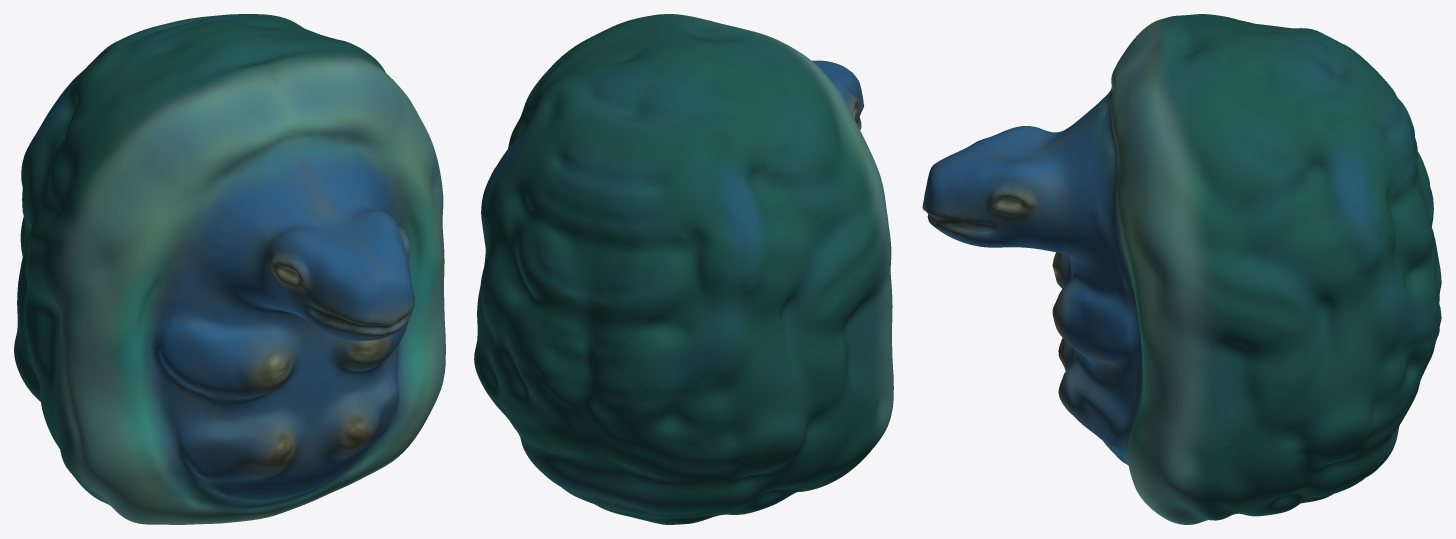
The model's file is totem_turtle.obj.
The picture shows the model from 3 angles, left to right: view 1: azimuth 30°, elevation 25°; view 2: azimuth 150°, elevation 25°; view 3: azimuth 270°, elevation 25°; orthographic projection. The views are drawn at different scales.
Visible parts, largest first — view 1: totem_turtle; view 2: totem_turtle; view 3: totem_turtle.
Boxes of the visible parts, x1,y1,x2,y2 form: totem_turtle: (14, 14, 445, 524); totem_turtle: (474, 14, 893, 524); totem_turtle: (922, 14, 1441, 524).
Bounding box in the file's own units: 6.26 × 7.38 × 7.59.
1 material, 1 textured.
